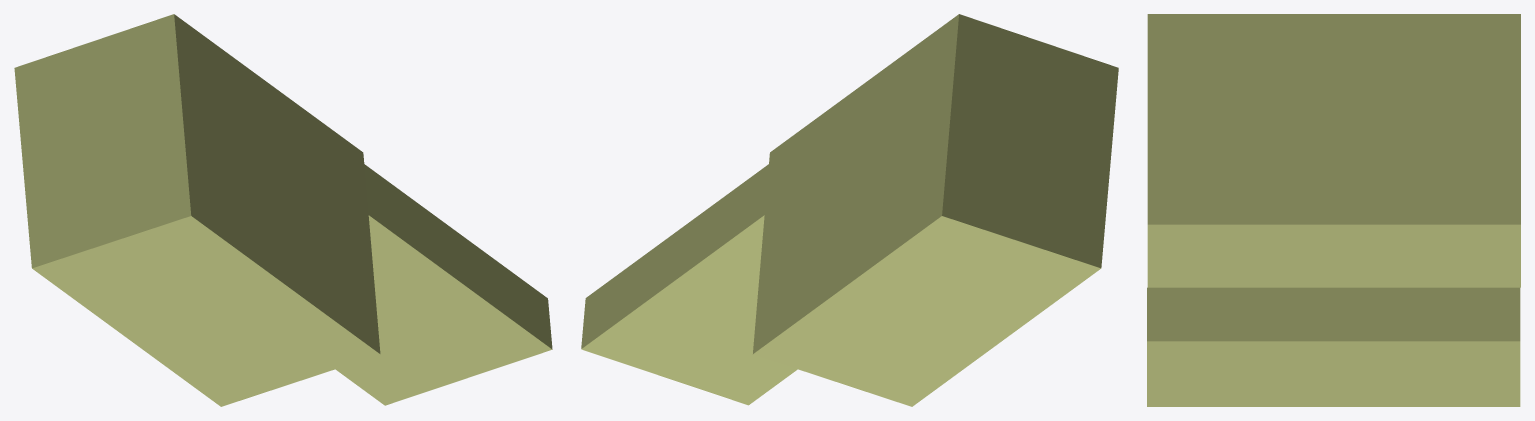
3 views of the same model, side by side, from view 1: azimuth 30°, elevation 25°; view 2: azimuth 150°, elevation 25°; view 3: azimuth 270°, elevation 25° (orthographic).
Parts seen in each view (by area): view 1: 0_2_3_3_3_1_0_3_2_2_0; view 2: 0_2_3_3_3_1_0_3_2_2_0; view 3: 0_2_3_3_3_1_0_3_2_2_0.
Part boxes in pixels (box(x1,y1,x2,y2)): 0_2_3_3_3_1_0_3_2_2_0: box(14, 14, 552, 406); 0_2_3_3_3_1_0_3_2_2_0: box(581, 14, 1118, 406); 0_2_3_3_3_1_0_3_2_2_0: box(1147, 14, 1520, 406).
Bounding box in the file's own units: 9.57 × 6.78 × 9.01.
